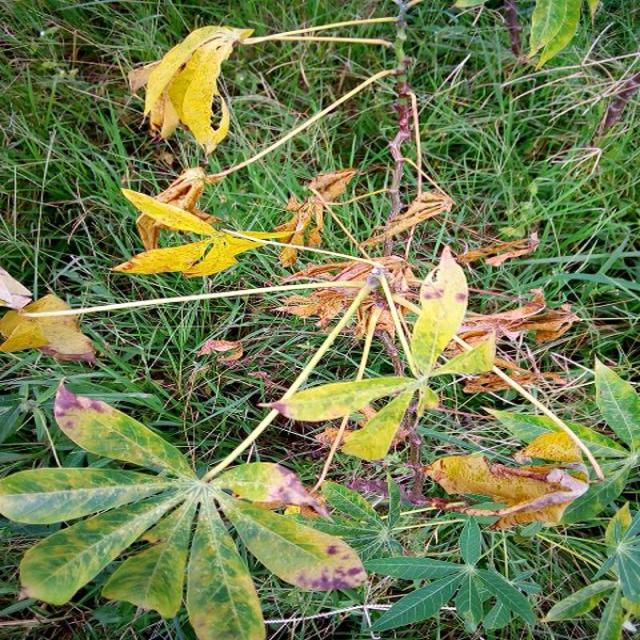cassava leaf: (2, 376, 370, 638), (142, 22, 256, 157), (410, 243, 470, 379)
